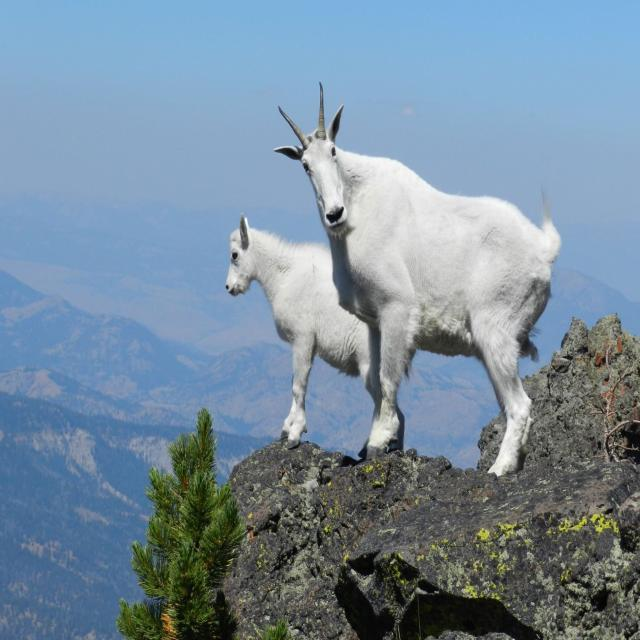Goat: (278, 81, 555, 480), (226, 212, 382, 472)
